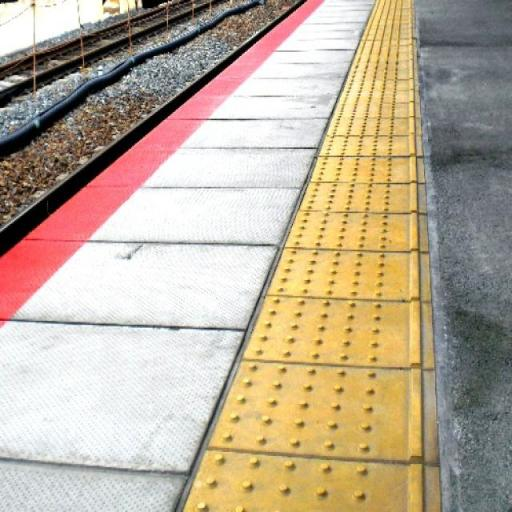dot: (207, 359, 385, 457), (241, 294, 388, 367), (268, 247, 393, 298), (284, 209, 391, 252)
